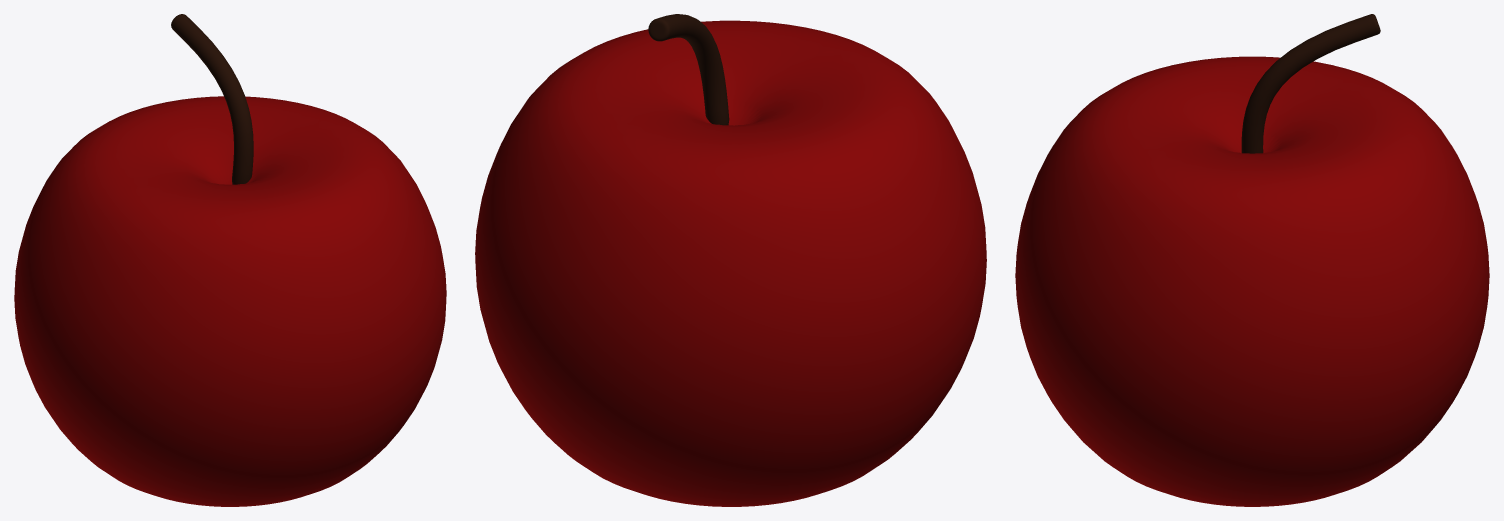
Rendered from apple_beta.fbx.
3 views of the same model, side by side, from view 1: azimuth 30°, elevation 25°; view 2: azimuth 150°, elevation 25°; view 3: azimuth 270°, elevation 25° (orthographic). The views are drawn at different scales.
Visible parts, largest first — view 1: Sphere002, Line002; view 2: Sphere002, Line002; view 3: Sphere002, Line002.
Part boxes in pixels (box(x1,y1,x2,y2)): Sphere002: box(14, 96, 446, 506); Line002: box(171, 14, 253, 184); Sphere002: box(475, 20, 986, 506); Line002: box(648, 14, 729, 125); Sphere002: box(1015, 56, 1489, 506); Line002: box(1241, 14, 1380, 153).
Bounding box in the file's own units: 151 × 156 × 151.
